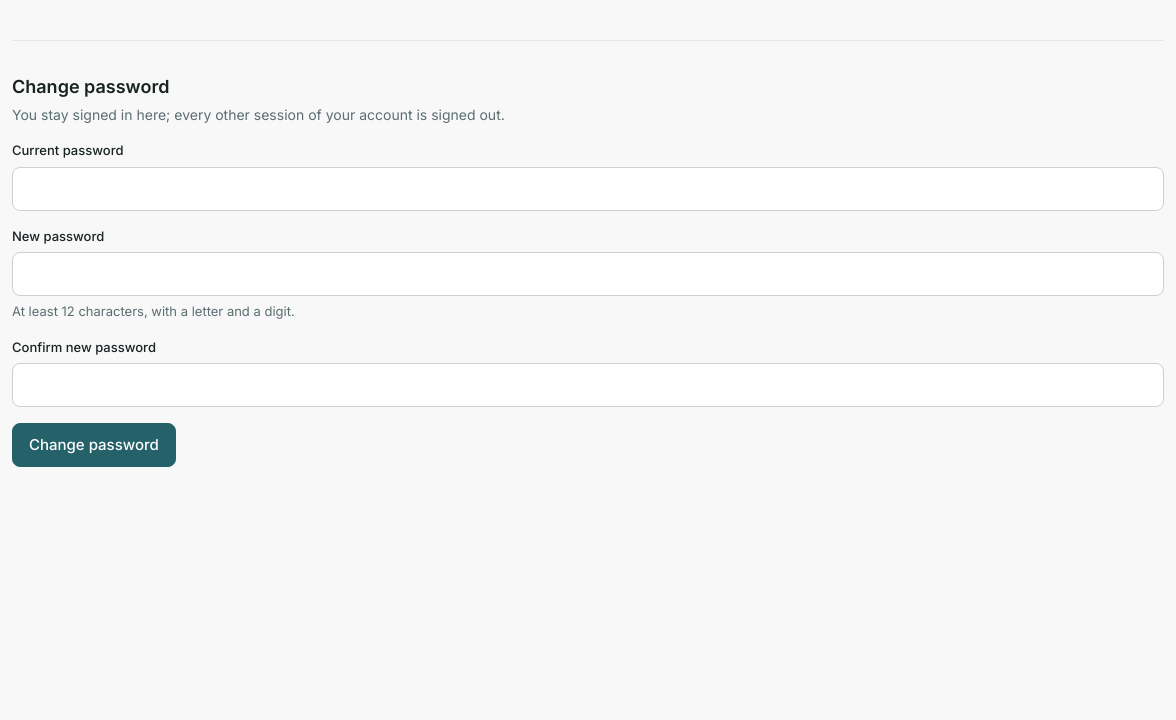
Scenario: changes the password, clears the form and says the other sessions ended
Expected: the heading "Change password" is shown, x1=12 y1=76 x2=169 y2=97
Type "old-password-12" into the password field labelled "Current password" at [588, 188], box x1=12 y1=166 x2=1164 y2=210
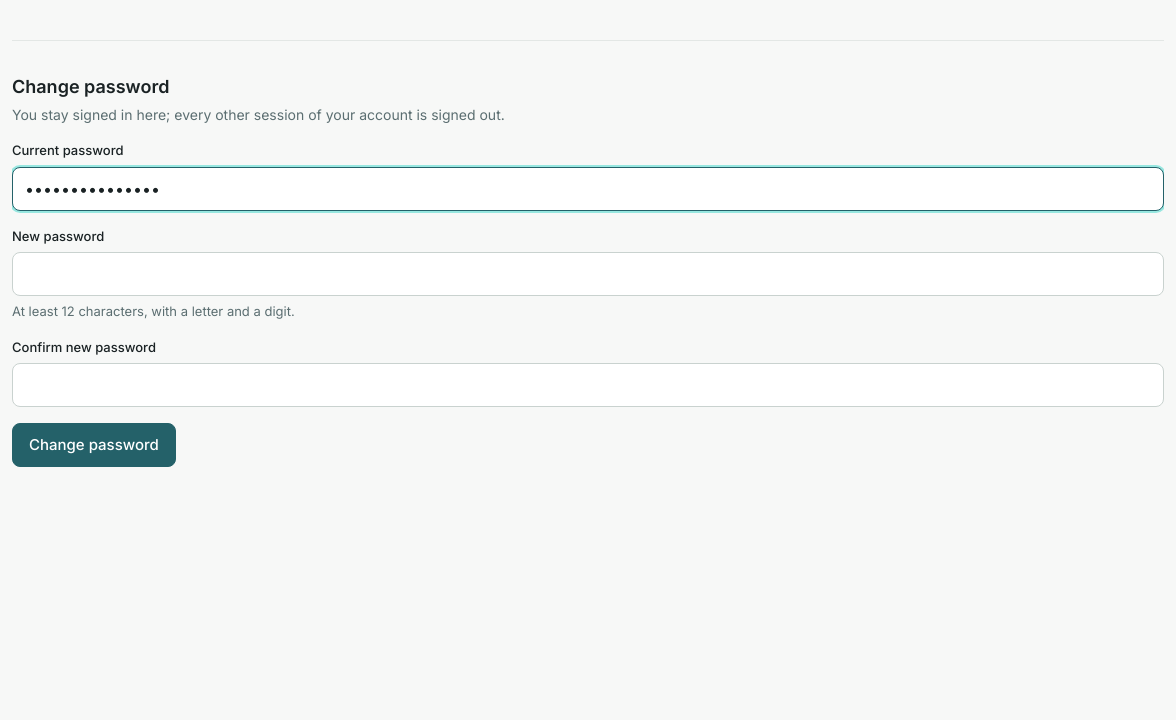
Type "new-password-34" into the password field labelled "New password" at [588, 274], box x1=12 y1=252 x2=1164 y2=296
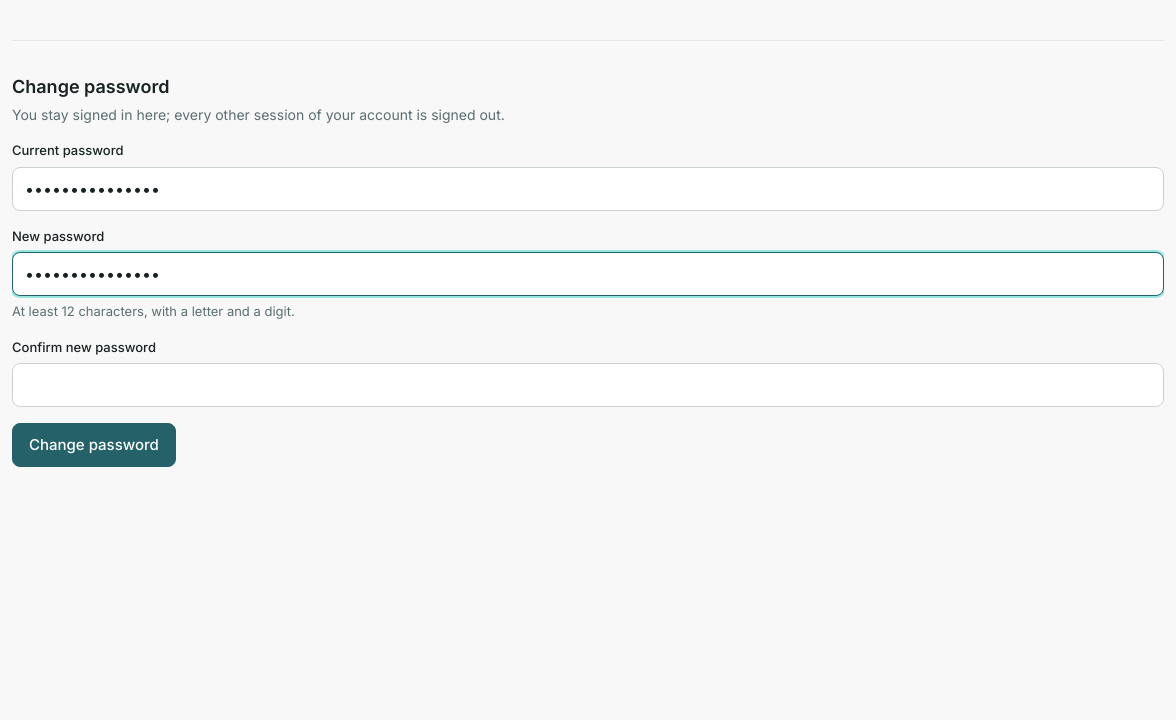
Type "new-password-34" into the password field labelled "Confirm new password" at [588, 385], box x1=12 y1=363 x2=1164 y2=407
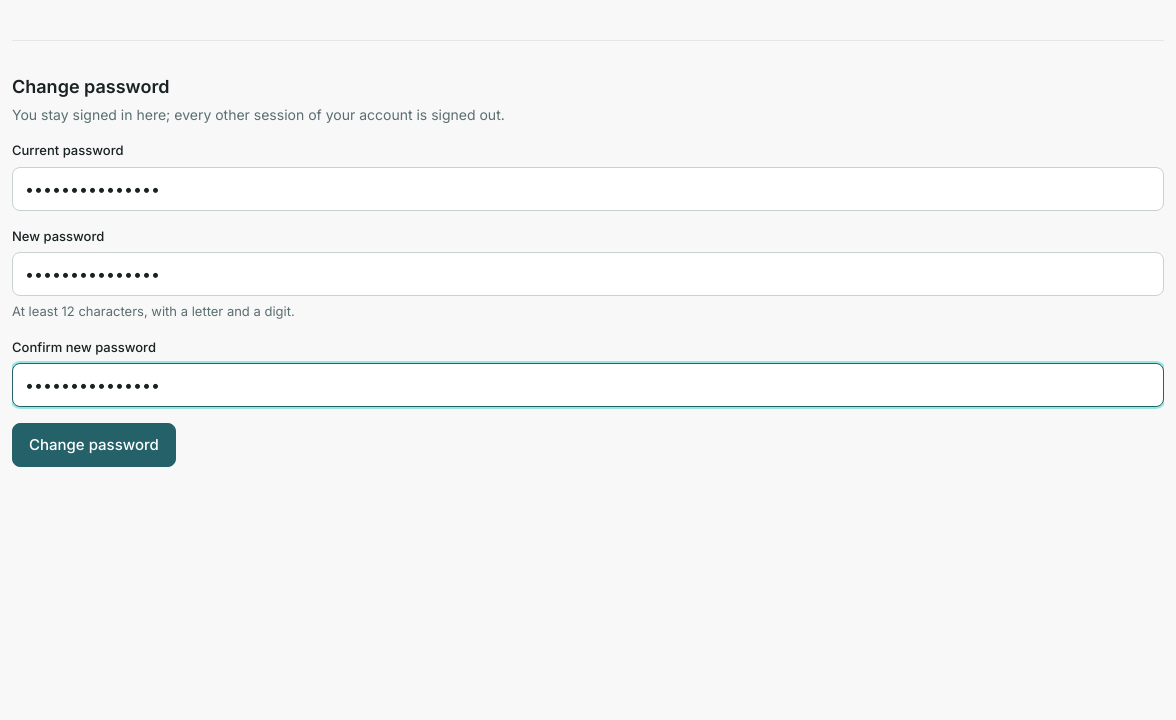
Click the button "Change password" at [94, 445], box x1=12 y1=423 x2=176 y2=467
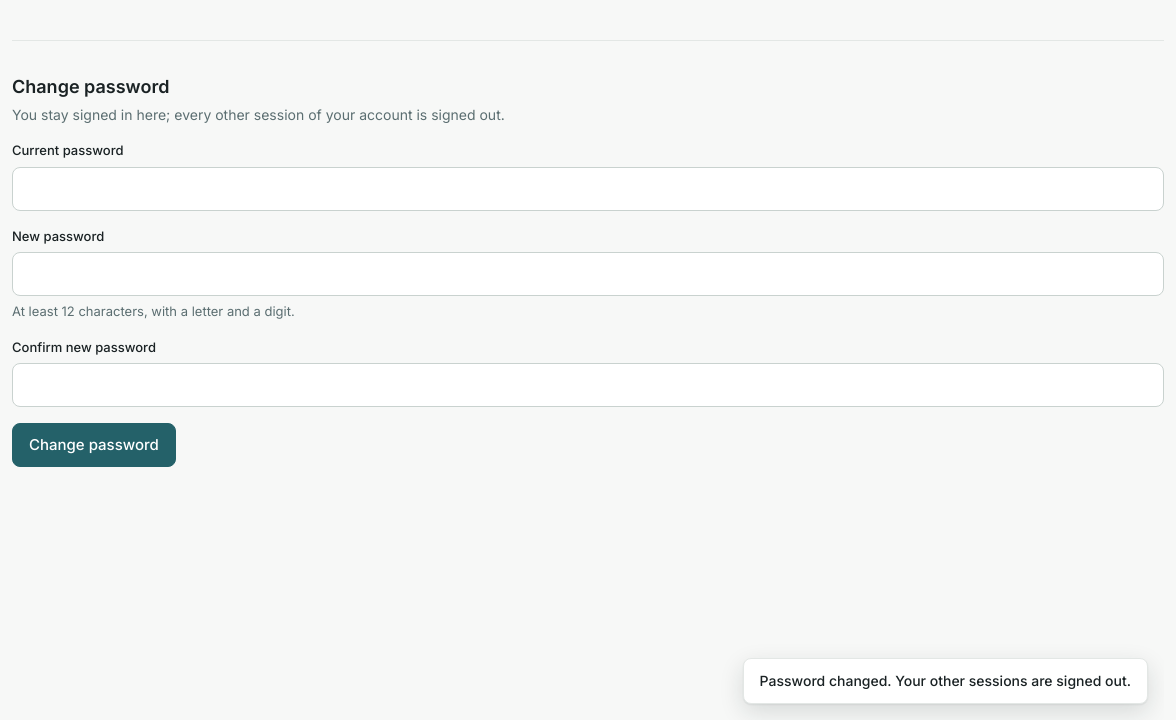
Expected: the text "Password changed. Your other sessions are signed out." is shown, x1=743 y1=658 x2=1148 y2=704
Expected: the password field labelled "Current password" is empty, x1=12 y1=166 x2=1164 y2=210
